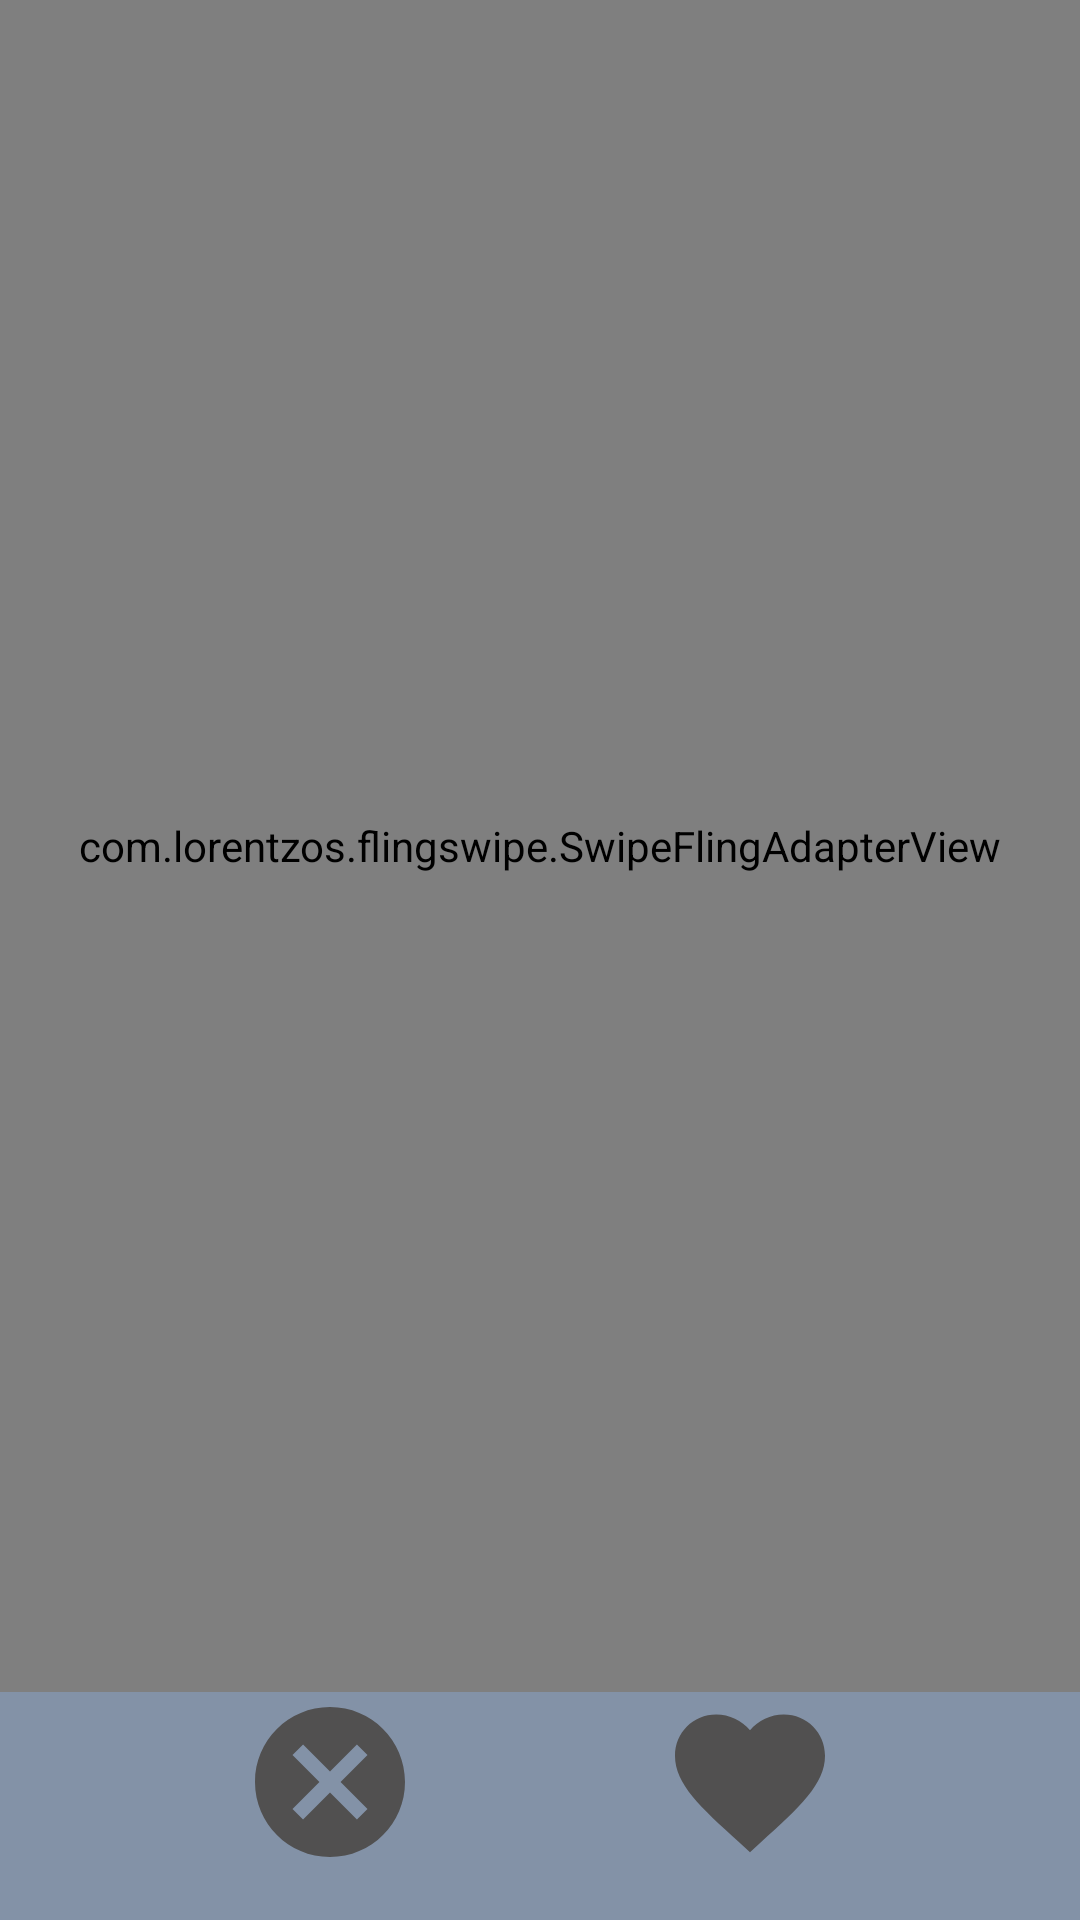

Where to tap for icons on this 1080×1920 app screen, as (x,y):
cancel: (330,1782)
favorite: (750,1783)
